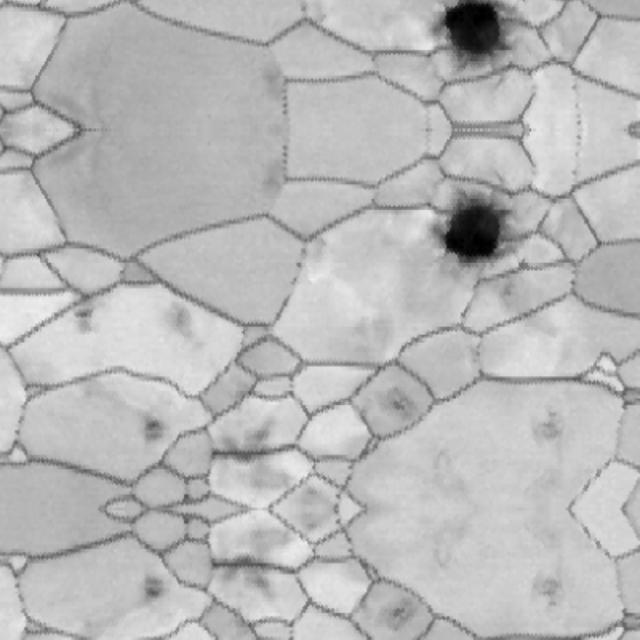good_void: (432, 189, 516, 274), (432, 0, 516, 72), (151, 294, 220, 359), (513, 402, 582, 459), (513, 561, 582, 618), (217, 413, 282, 471), (217, 549, 282, 607), (377, 381, 425, 426), (377, 594, 425, 639), (136, 408, 179, 448), (136, 572, 179, 612), (72, 297, 110, 337), (491, 281, 523, 309)
